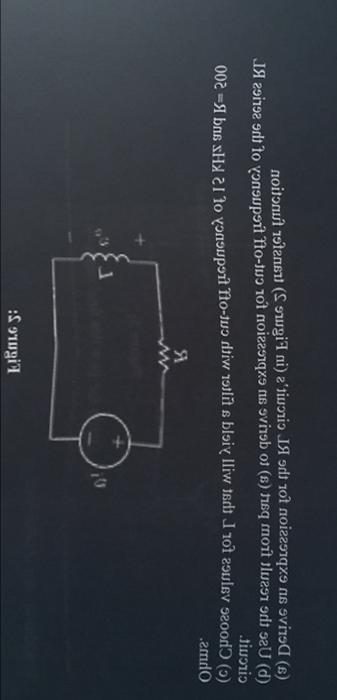Battery: (61, 396, 143, 475)
